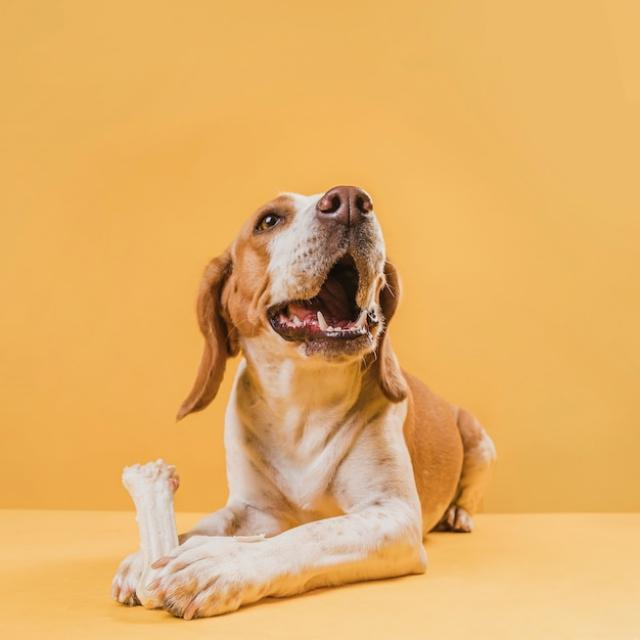Dog: (110, 186, 496, 618)
